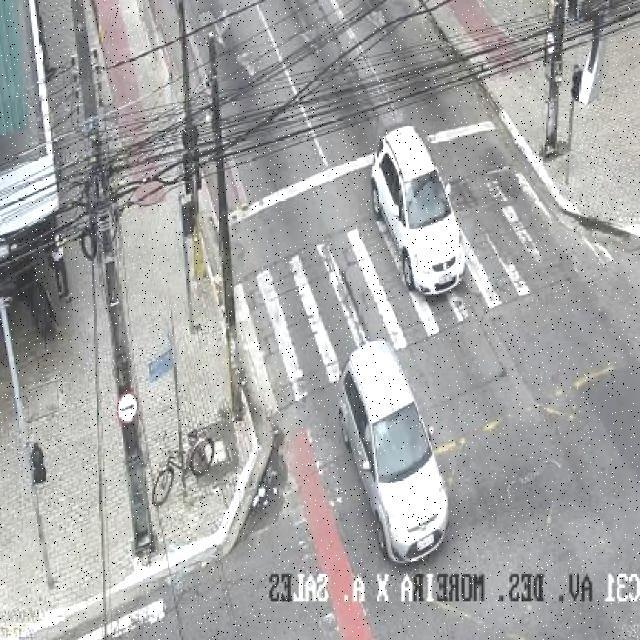Car: (335, 340, 449, 563), (370, 125, 467, 298)
Cycle: (150, 427, 216, 508)
